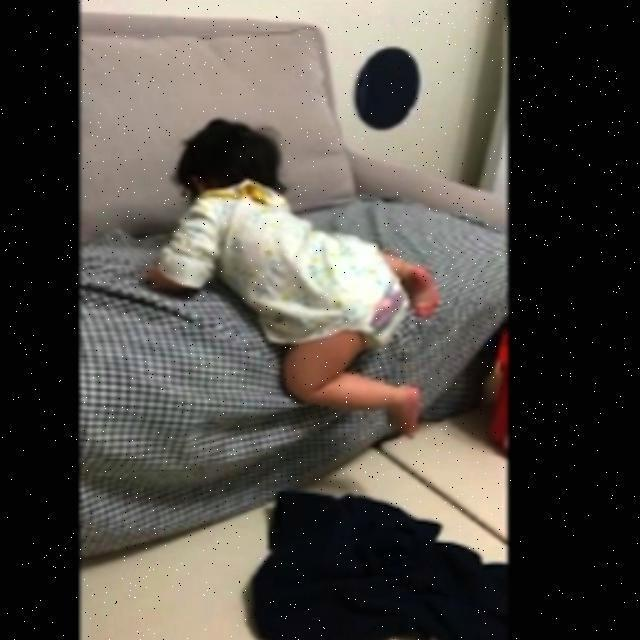child: (172, 115, 438, 441)
